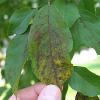Apple Scab Leaf: (28, 5, 74, 91)
